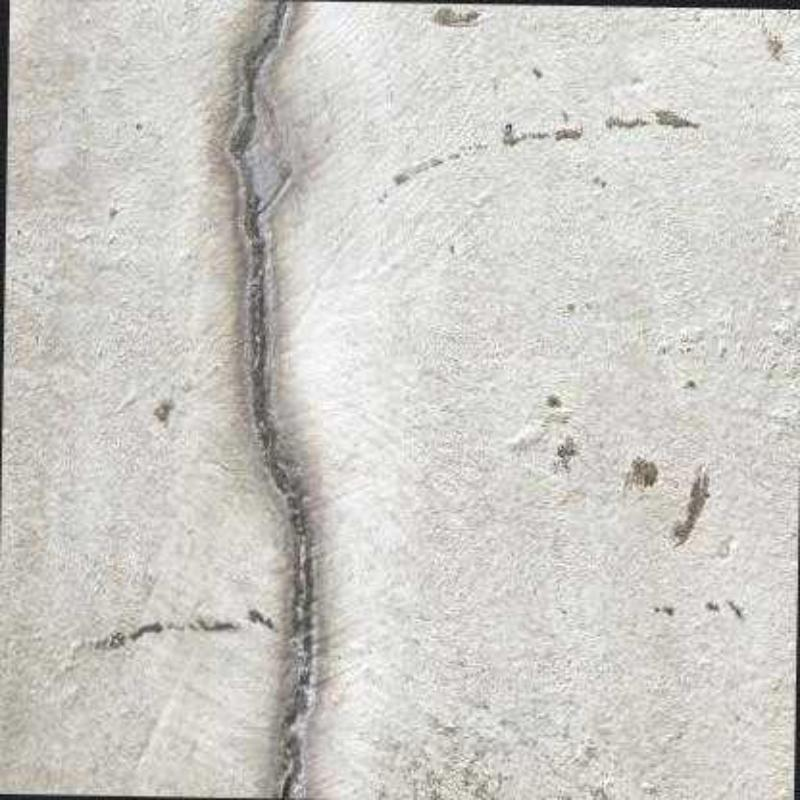pothole: (234, 0, 314, 798)
